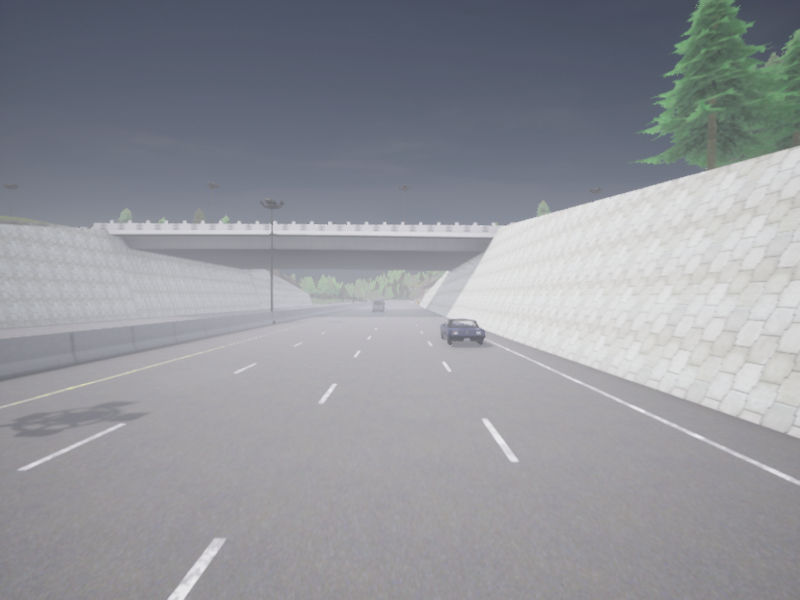vehicle: (440, 319, 484, 344), (373, 298, 384, 311)
